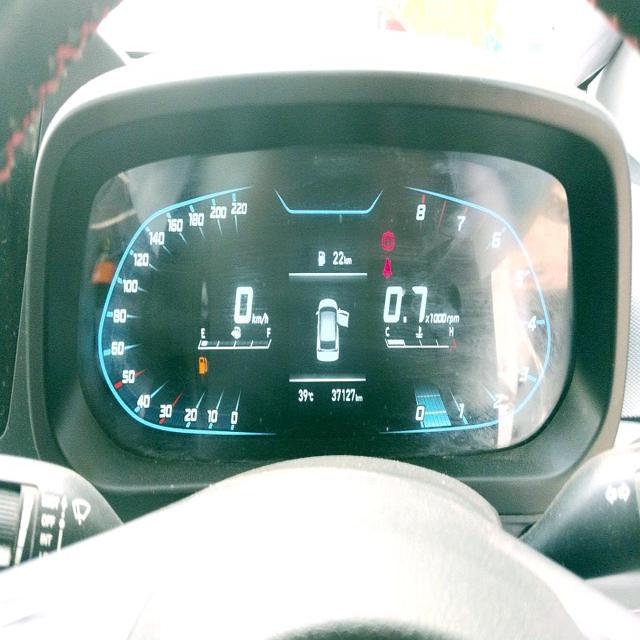odometer: (329, 384, 356, 405)
